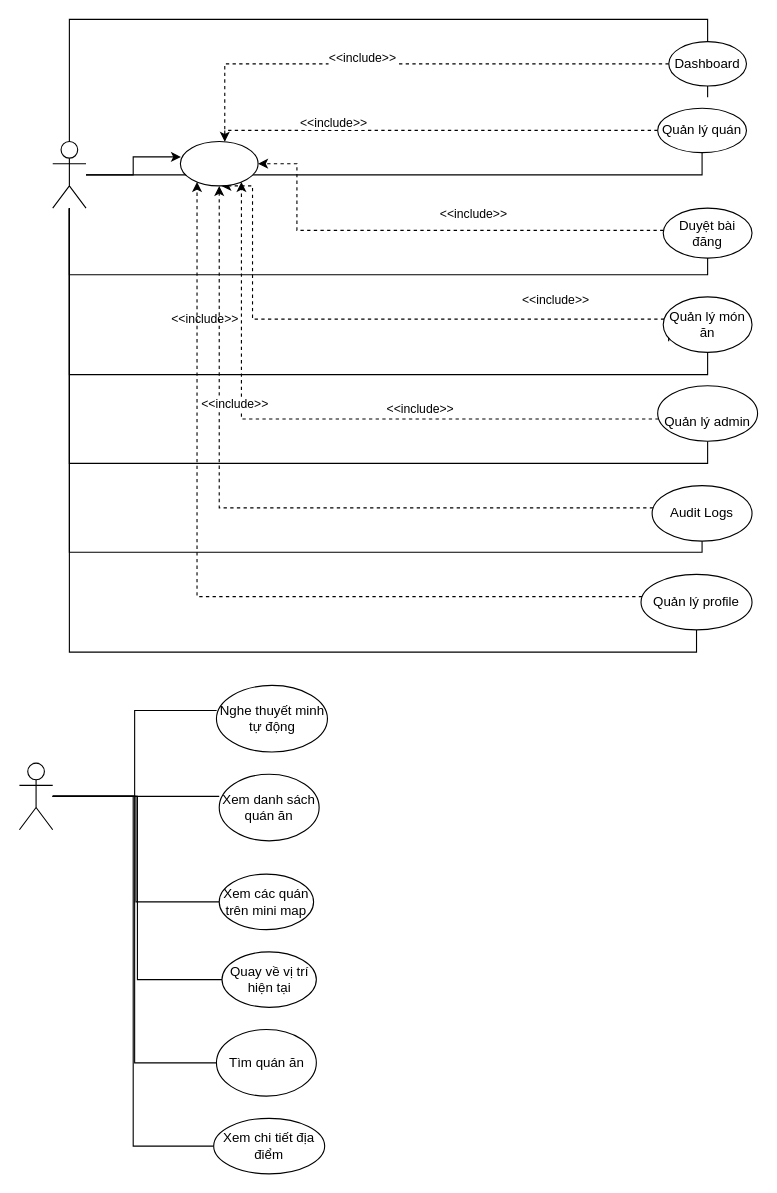
This 777x1193 diagram has some shape labels left out. The centre of each missing label's shape, as x and y in pixels:
"Admin" goes at pixel 69 174.
"User" goes at pixel 35 796.
"Đăng nhập" goes at pixel 218 163.
